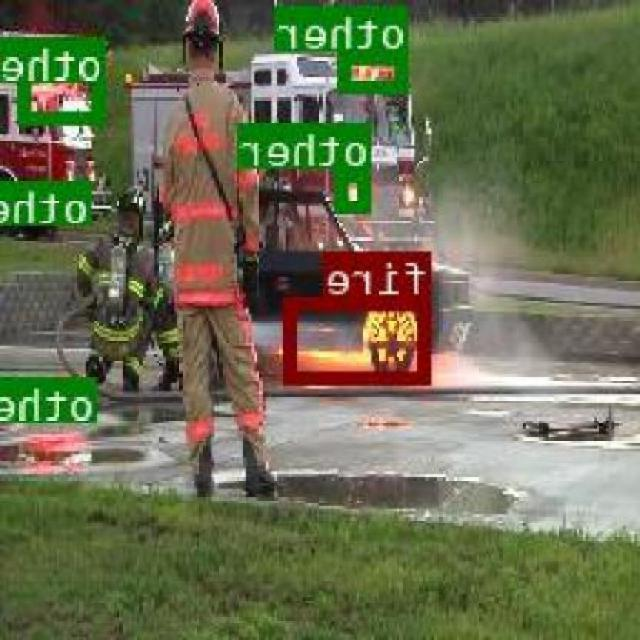Fire: (286, 296, 432, 382)
Smoke: (437, 202, 531, 357)
